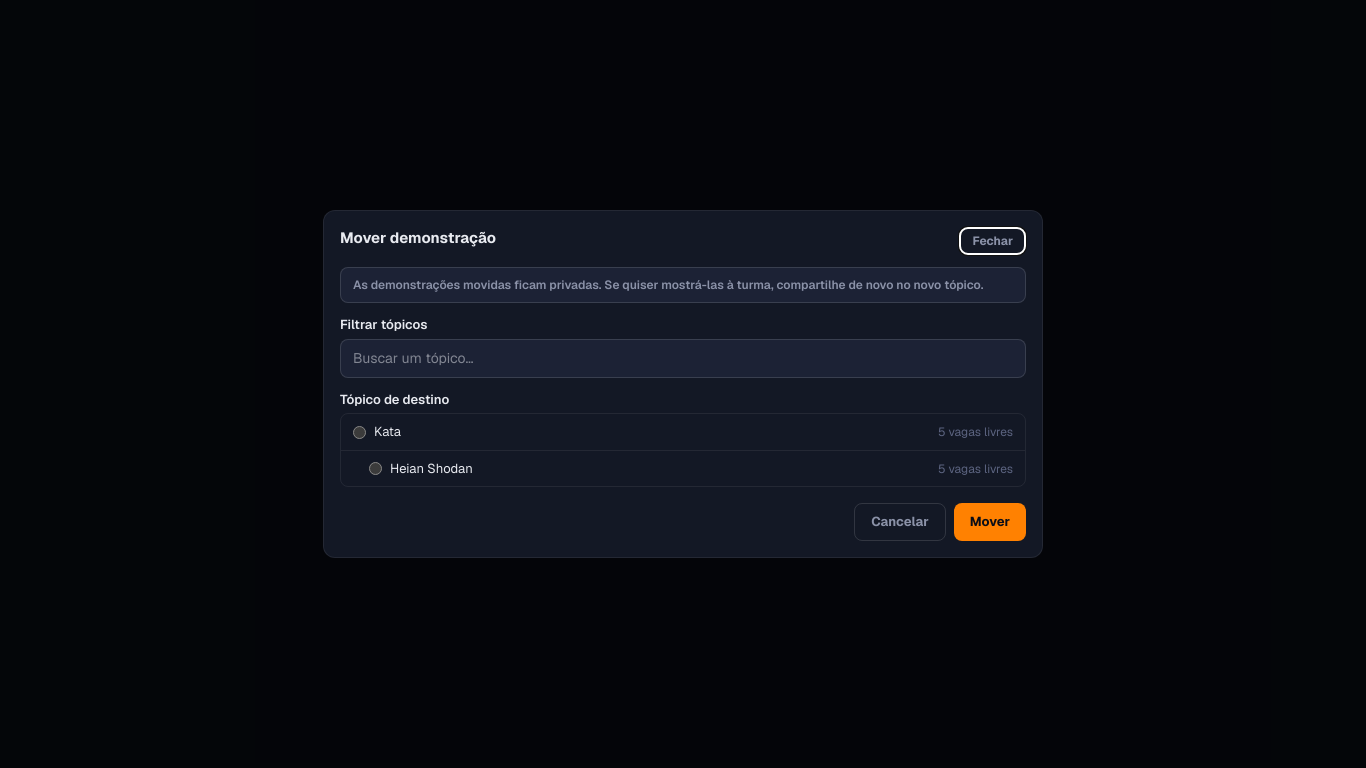
MoveDialog › asks for a target first, and explains a target that stopped being readable
Step 1. Click the button "Mover" → x=990, y=522, box [954, 503, 1026, 541]
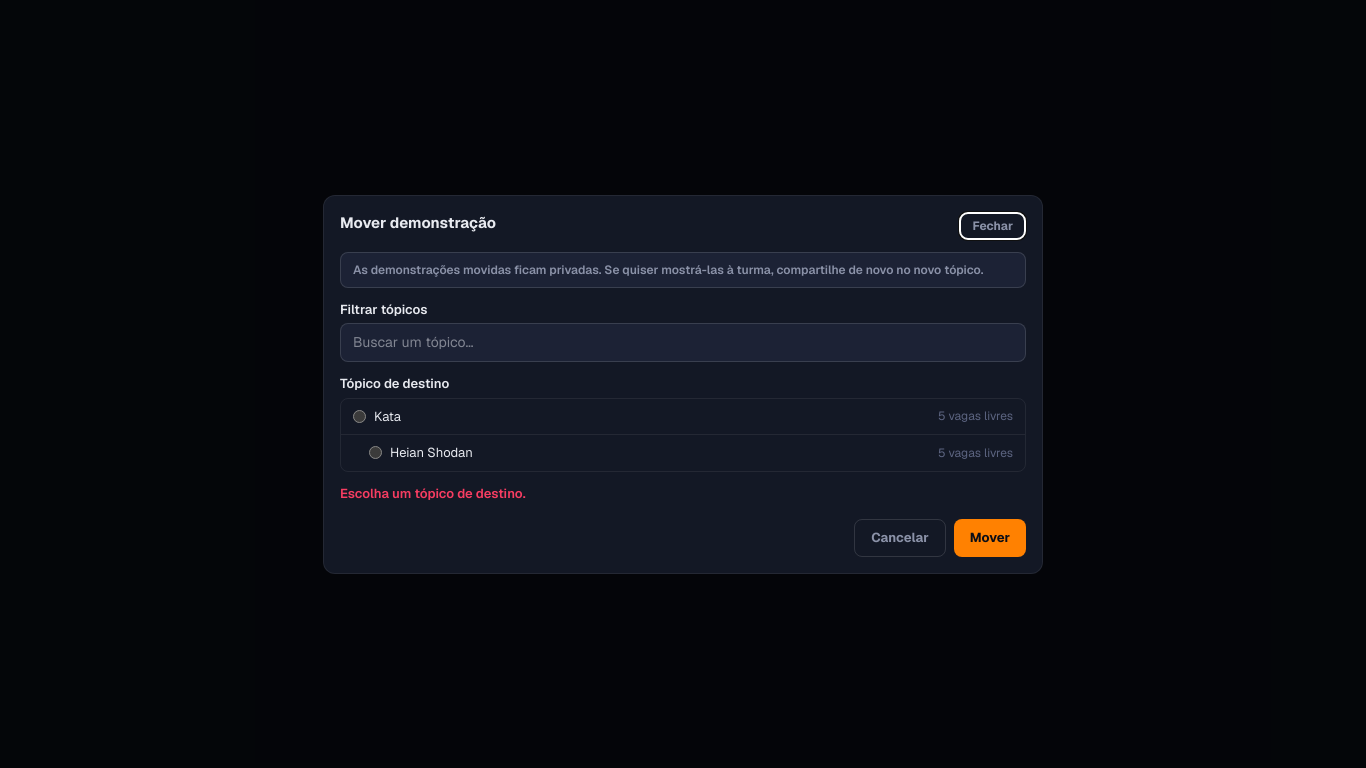
Now the message reads "Escolha um tópico de destino.", box [340, 484, 526, 502]
Step 2. Click the radio button labelled "Kata 5 vagas livres" → x=360, y=416, box [353, 410, 366, 423]
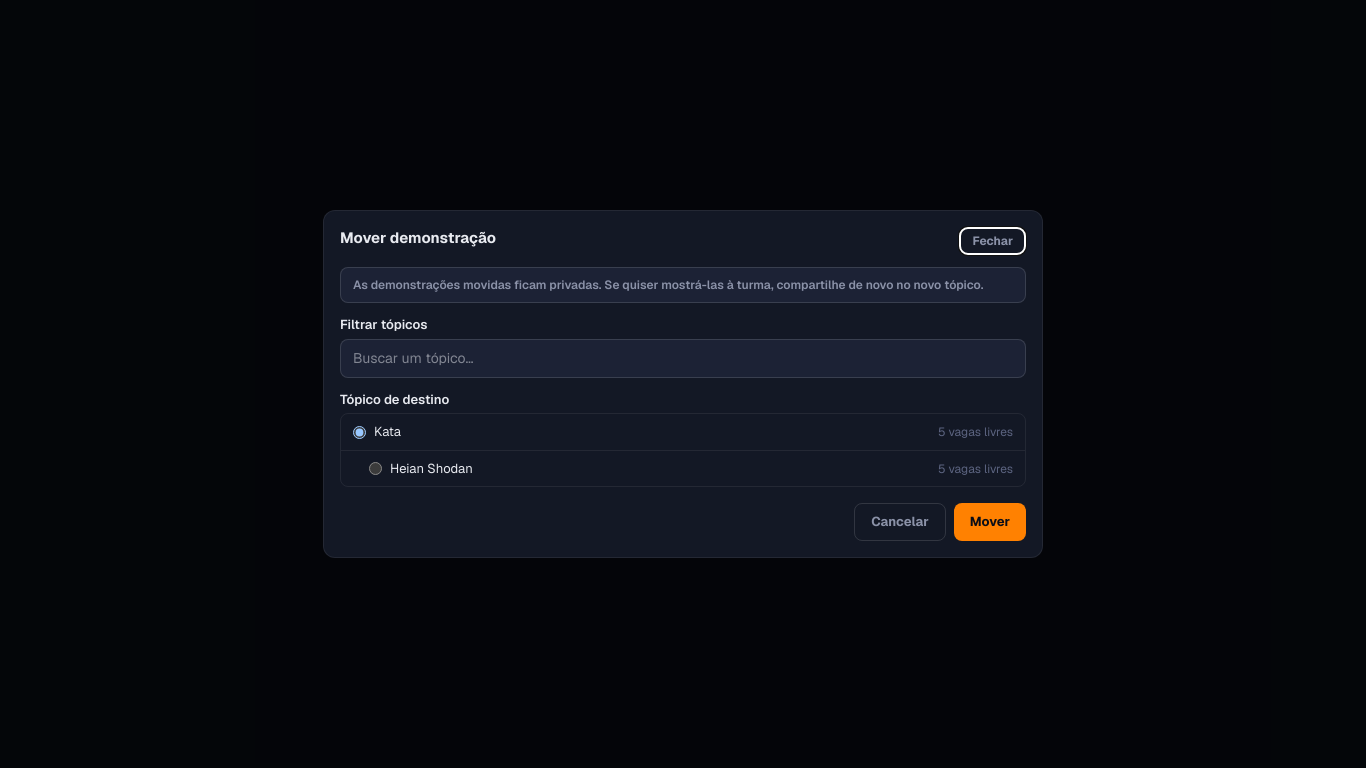
Step 3. Click the button "Mover" → x=990, y=522, box [954, 503, 1026, 541]
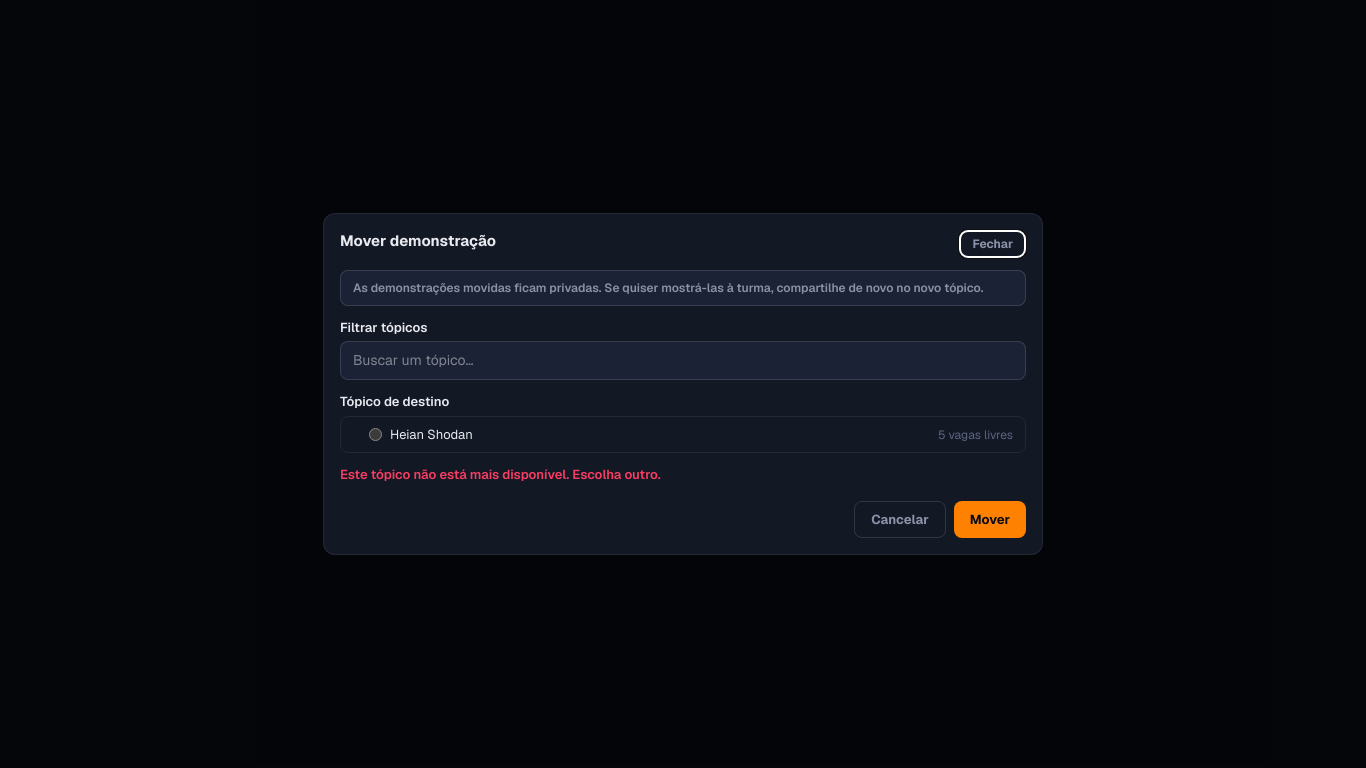
Now the message reads "Este tópico não está mais disponível. Escolha outro.", box [340, 466, 661, 483]
Now the text "Kata " is gone
